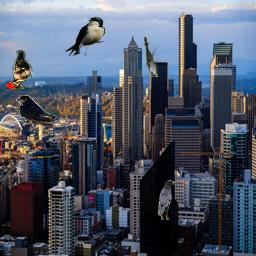Crow: (157, 180, 175, 220)
Cuckoo: (144, 37, 158, 77)
Swallow: (65, 17, 105, 56), (16, 95, 56, 126)
Woodpecker: (6, 50, 33, 90)
